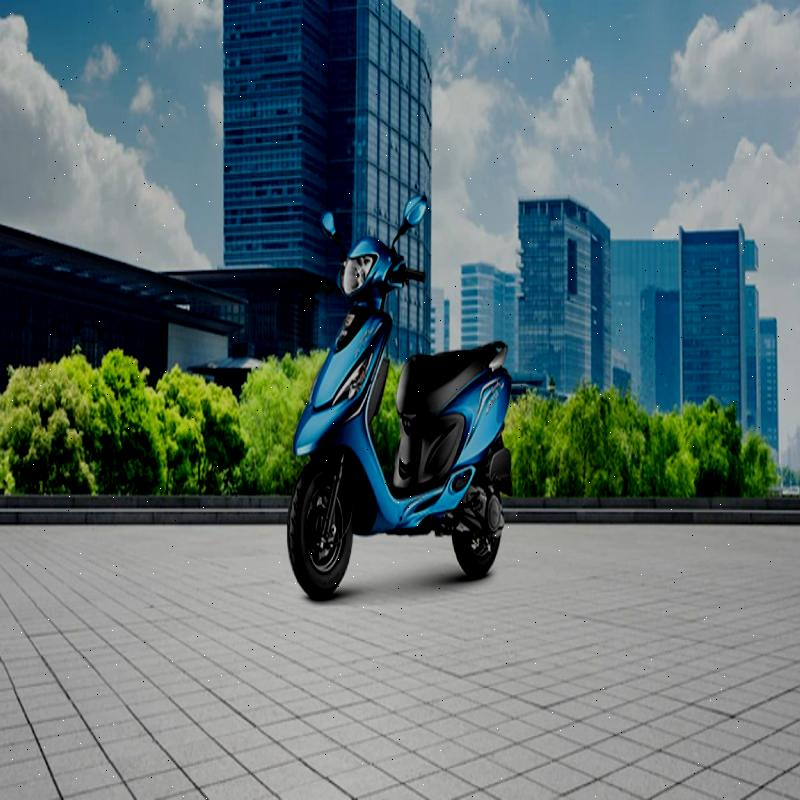bike: (294, 191, 520, 605)
